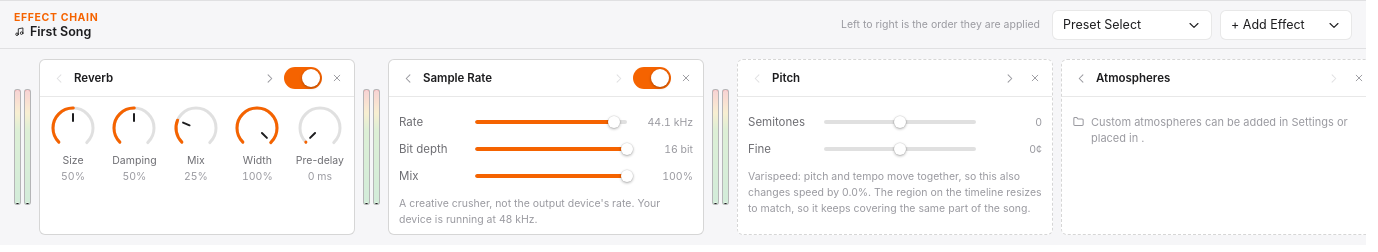
it: BlockEffectsRack › moves a device outside the chain without touching the chain order
Expected: the elements with class "rack__device-name" read "Pitch", "Atmospheres", in this order, [772,71,800,85]; [1096,71,1170,85]
Click the button named "Move Atmospheres left".
click(1081, 78)  # box [1070,65,1092,91]
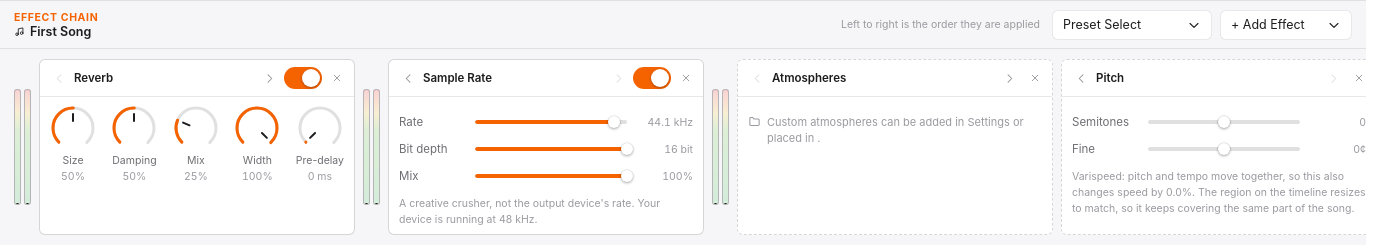
Expected: the elements with class "rack__device-name" read "Atmospheres", "Pitch", in this order, [772,71,846,85]; [1096,71,1124,85]
